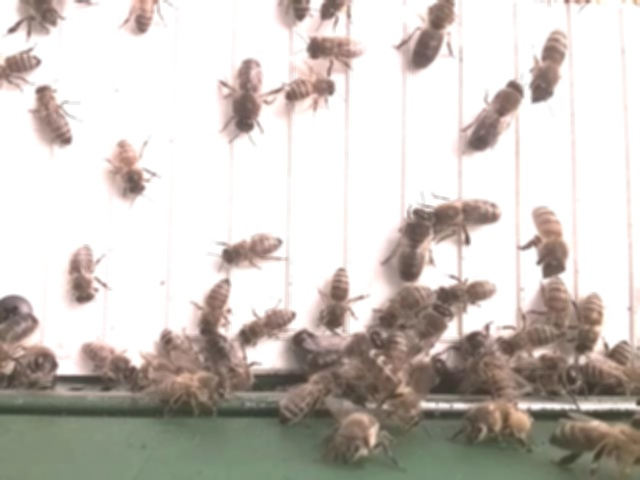Drone: (468, 78, 529, 152), (394, 202, 435, 286), (409, 0, 458, 70), (228, 54, 265, 137), (427, 194, 505, 232)
Worker: (378, 281, 437, 330), (33, 82, 75, 147), (532, 25, 569, 97), (79, 336, 140, 377), (530, 202, 566, 271), (219, 231, 286, 268), (239, 304, 298, 345), (196, 276, 234, 338), (573, 287, 606, 356), (322, 261, 354, 332), (498, 323, 566, 356), (66, 240, 100, 304), (114, 136, 149, 198), (542, 272, 575, 336), (434, 277, 497, 308), (306, 33, 370, 63), (285, 73, 340, 104)
